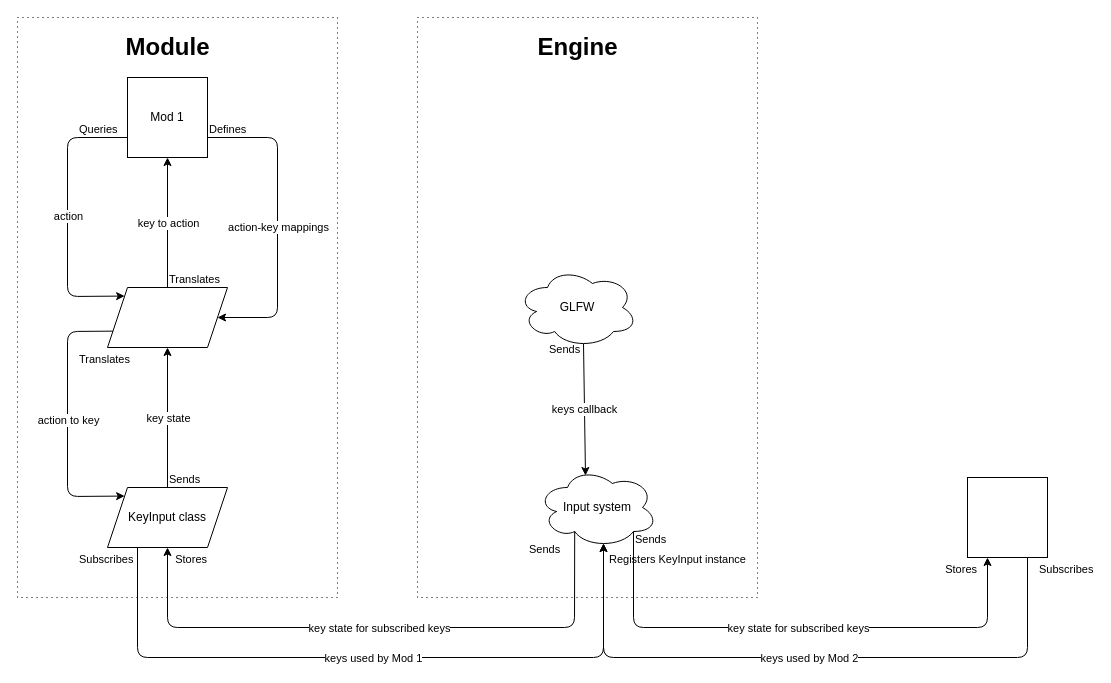
This 1111x683 diagram has some shape labels left out. Here are the shapes that lost their labels. From the top down, the centre of each, then its label:
[167,317]: LUT
[1007,517]: Mod 2
